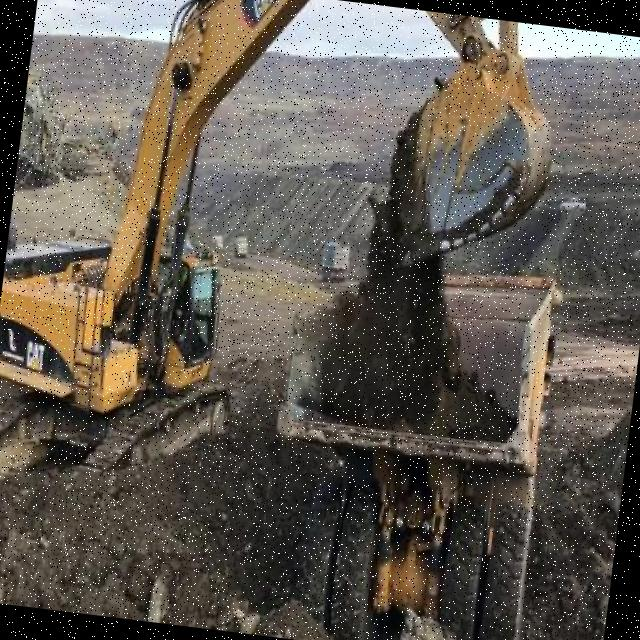Dump Truck: (245, 248, 570, 640), (317, 236, 350, 280), (232, 232, 248, 256)
Excavator: (0, 0, 568, 553)
